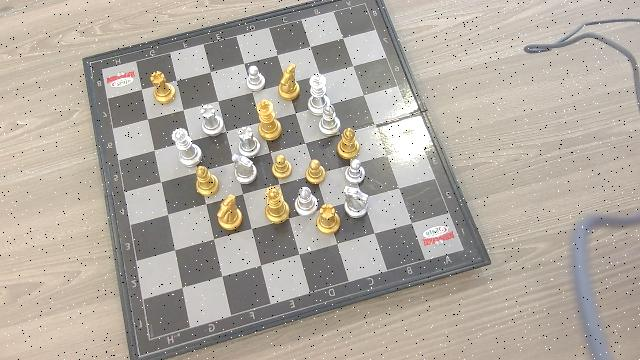black_bishop: (337, 127, 362, 158), (195, 165, 217, 197)
black_king: (255, 99, 278, 139)
black_knight: (215, 194, 246, 233), (277, 63, 300, 102)
black_pawn: (304, 158, 326, 186), (269, 154, 292, 180)
black_queen: (263, 184, 290, 226)
black_rook: (146, 71, 179, 105), (318, 204, 339, 236)
white_bishop: (293, 185, 317, 216), (320, 104, 343, 135)
white_knight: (230, 154, 257, 187), (345, 187, 369, 218)
white_pawn: (245, 64, 264, 93), (345, 161, 365, 182)
white_queen: (174, 127, 199, 167), (307, 71, 331, 107)
white_rook: (200, 102, 220, 139), (237, 124, 257, 154)
